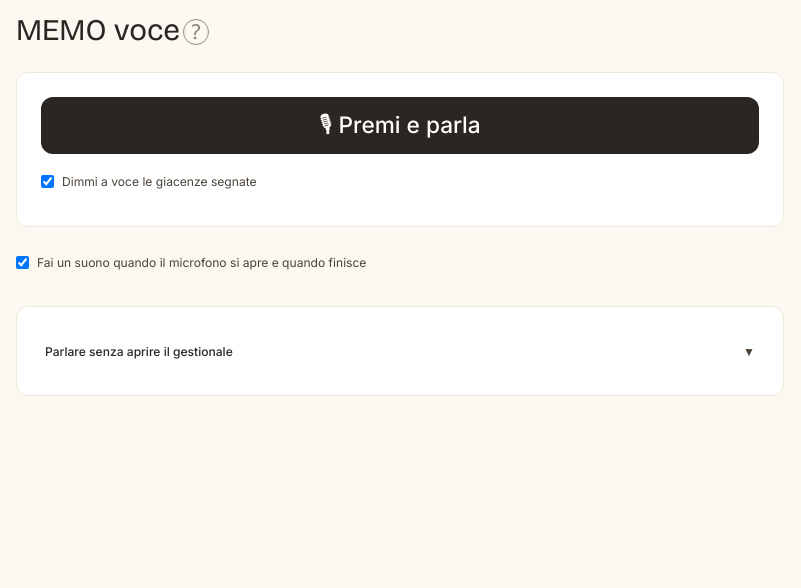
Test: la risposta parlata › dopo una giacenza segnata, MEMO la ripete a voce
The width and height of the screenshot is (801, 588).
Click the button "🎙 Premi e parla": (400, 126) [41, 97, 759, 154]
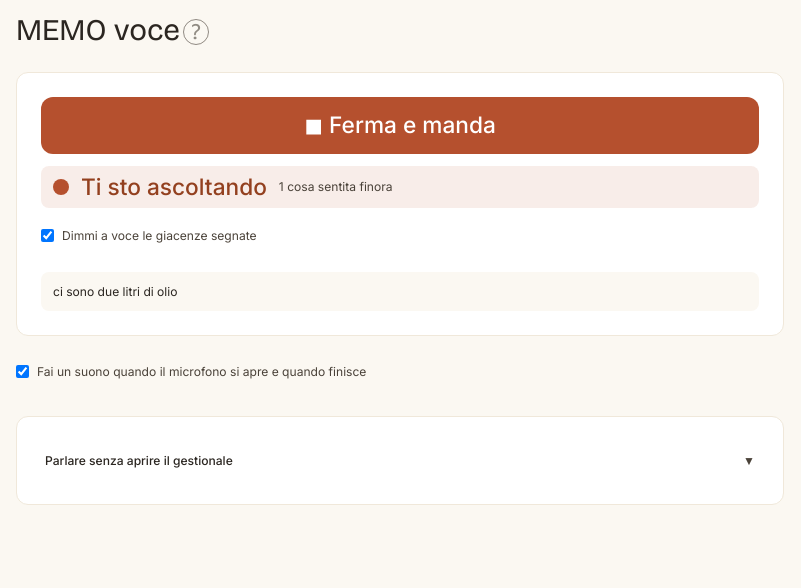
Click the button "◼ Ferma e manda": (400, 126) [41, 97, 759, 154]
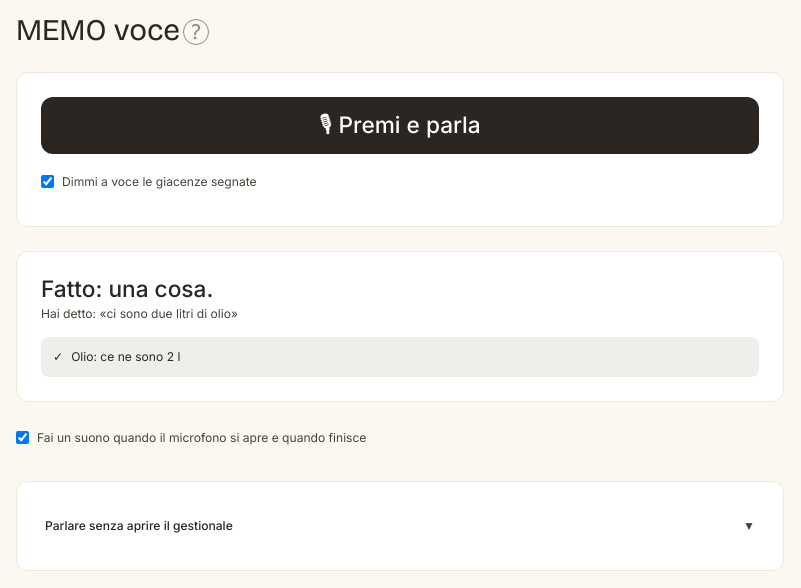
Check: the text "Olio: ce ne sono 2 l" is shown, box [71, 349, 180, 364]
